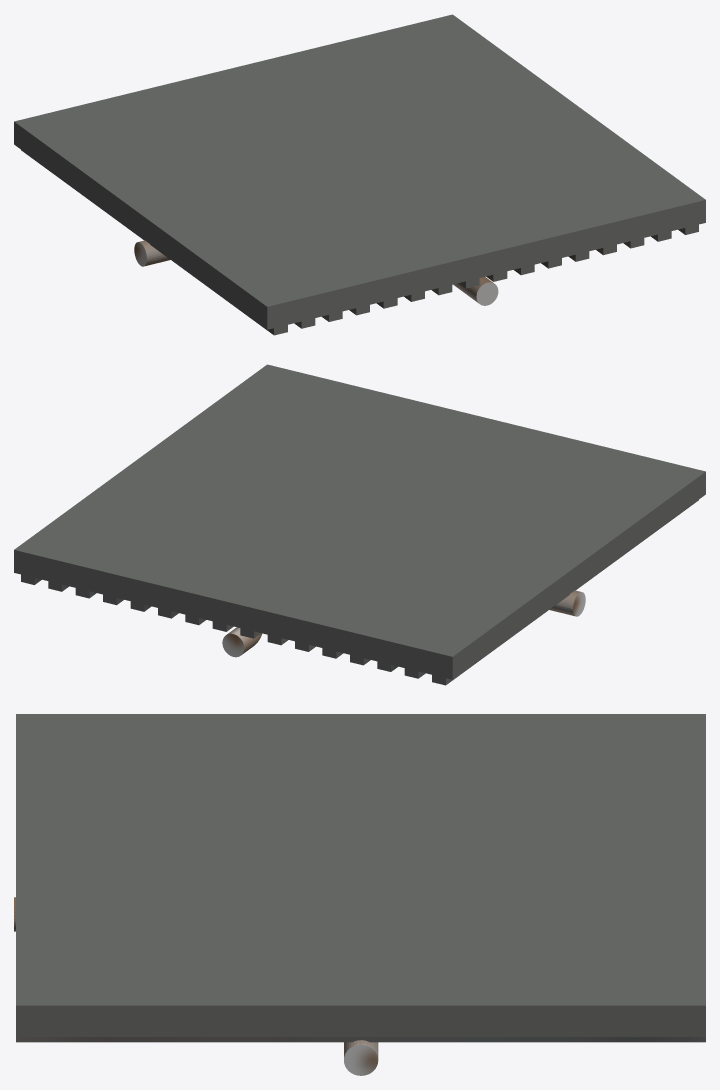
The model's file is ceil2.glb.
3 renders of one model, top to bottom at view 1: azimuth 30°, elevation 25°; view 2: azimuth 150°, elevation 25°; view 3: azimuth 270°, elevation 25°, orthographic. The views are drawn at different scales.
Parts seen in each view (by area): view 1: Cube, Cylinder.002; view 2: Cube, Cylinder, Cylinder.002; view 3: Cube, Cylinder.002.
Boxes of the visible parts, box(x1,y1,x2,y2) form: Cube: box(14, 14, 705, 335); Cylinder.002: box(134, 240, 498, 305); Cube: box(14, 364, 705, 685); Cylinder: box(222, 627, 262, 657); Cylinder.002: box(549, 590, 585, 616); Cube: box(16, 714, 705, 1042); Cylinder.002: box(14, 897, 378, 1075).
Bounding box in the file's own units: 2 × 0.335 × 2.01.
Materials: 4 (4 with a texture image).
